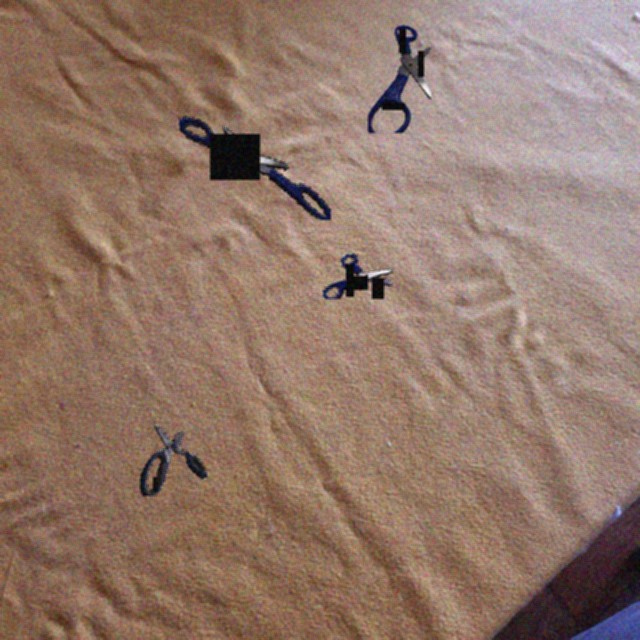scissors: (179, 116, 331, 220), (368, 25, 431, 133), (140, 422, 207, 496), (322, 253, 393, 299)
